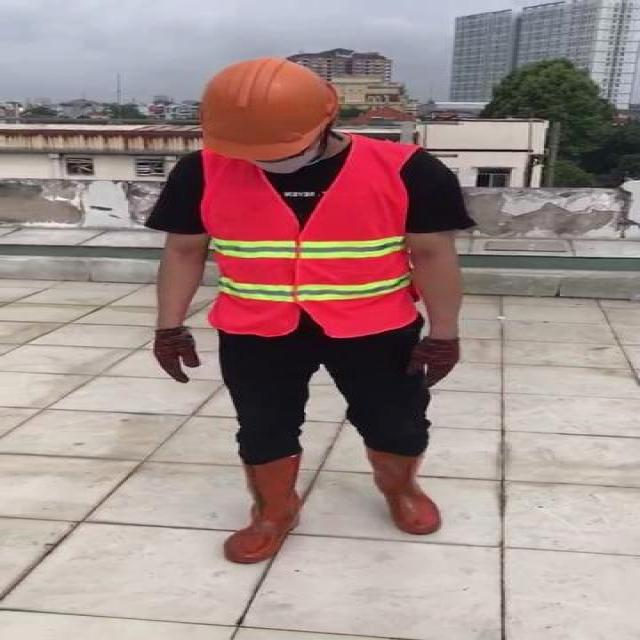boots: (219, 451, 304, 564), (366, 449, 441, 536)
hand_glove: (405, 337, 464, 387), (153, 327, 197, 384)
head_helmet: (195, 56, 338, 165)
person: (135, 58, 480, 577)
vest: (206, 144, 414, 337)
